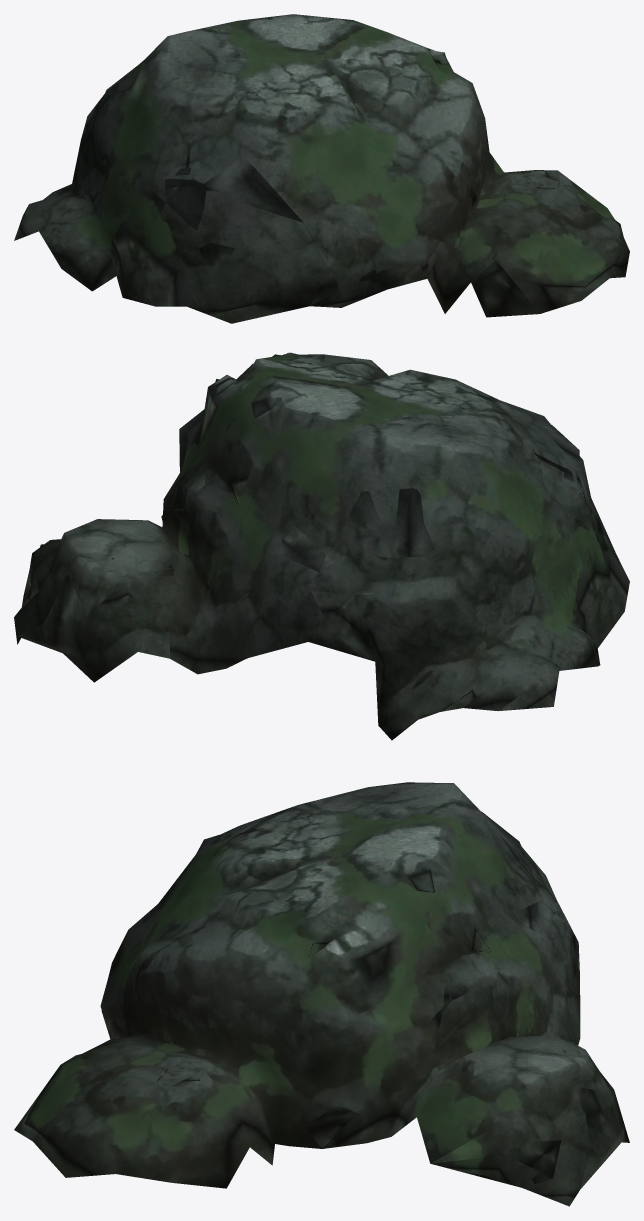
Rendered from rock-1.glb.
The picture shows the model from 3 angles, top to bottom: view 1: azimuth 30°, elevation 25°; view 2: azimuth 150°, elevation 25°; view 3: azimuth 270°, elevation 25°; orthographic projection. The views are drawn at different scales.
Visible parts, largest first — view 1: geometry_0; view 2: geometry_0; view 3: geometry_0.
Part boxes in pixels (<box>): geometry_0: <box>14,14,629,323</box>; geometry_0: <box>14,352,629,740</box>; geometry_0: <box>14,782,629,1206</box>.
Bounding box in the file's own units: 0.9483 × 0.4244 × 0.9347.
1 material, 1 textured.
